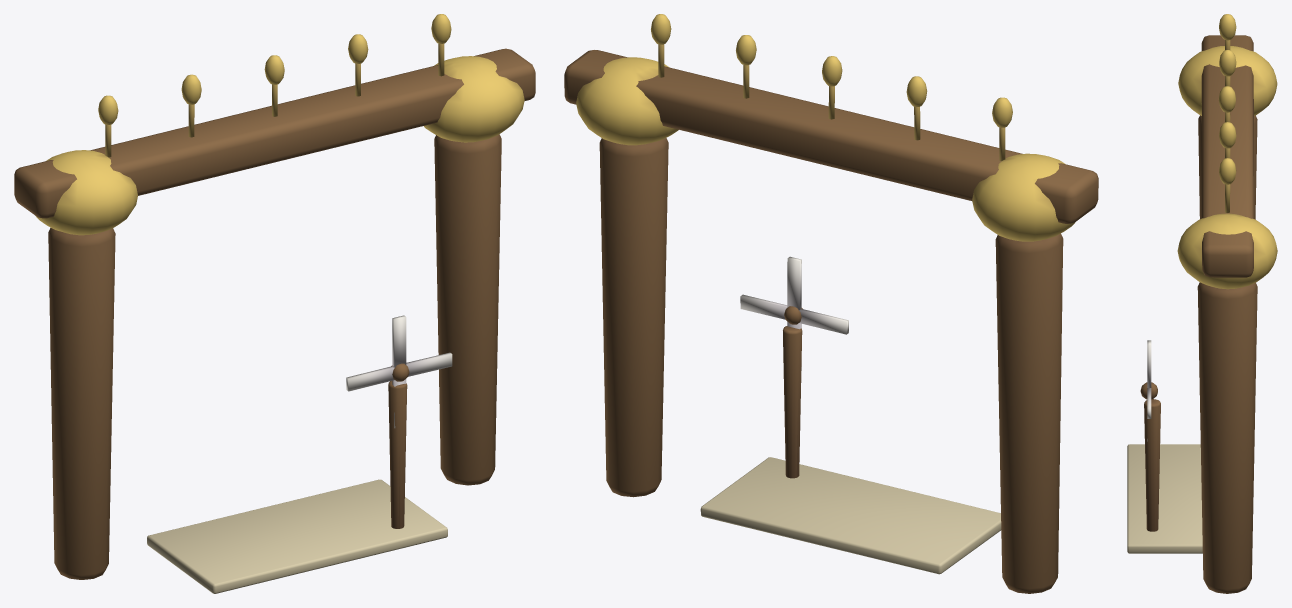
The picture shows the model from 3 angles, left to right: view 1: azimuth 30°, elevation 25°; view 2: azimuth 150°, elevation 25°; view 3: azimuth 270°, elevation 25°; orthographic projection. The views are drawn at different scales.
Parts seen in each view (by area): view 1: gate_98dc566f; view 2: gate_98dc566f; view 3: gate_98dc566f.
Part boxes in pixels (box(x1,y1,x2,y2)): gate_98dc566f: box(14, 14, 535, 593); gate_98dc566f: box(564, 14, 1098, 593); gate_98dc566f: box(1127, 14, 1277, 593).
Bounding box in the file's own units: 5.1 × 4.59 × 1.5.
